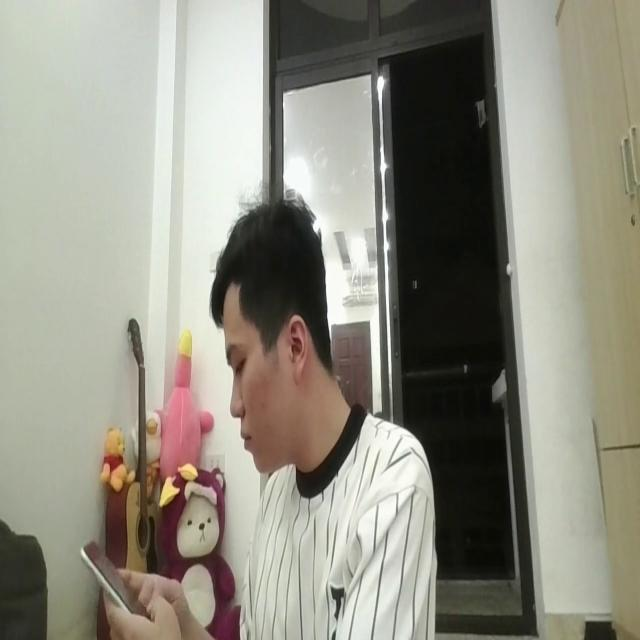phone: (81, 530, 151, 624)
student: (208, 188, 444, 640)
